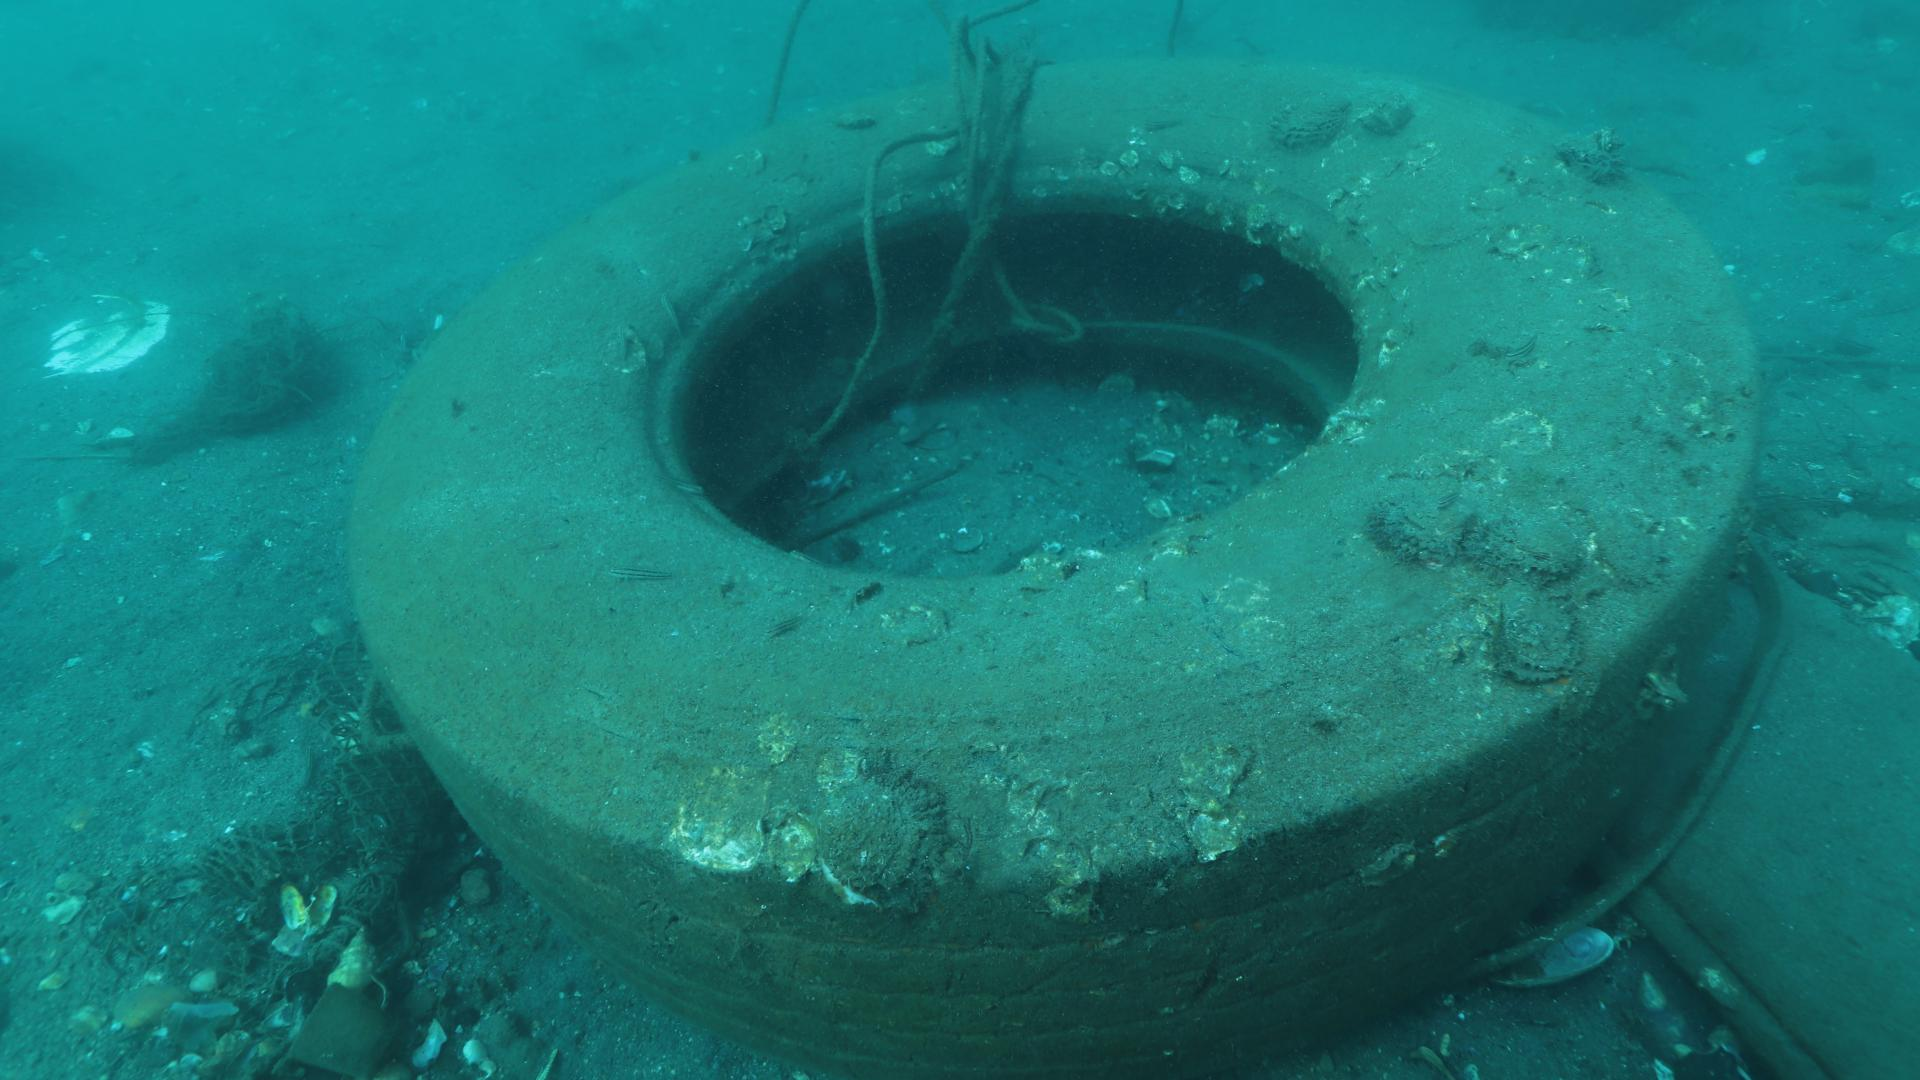bundle of ropes: (757, 0, 1087, 444)
tire: (345, 50, 1760, 1080)
